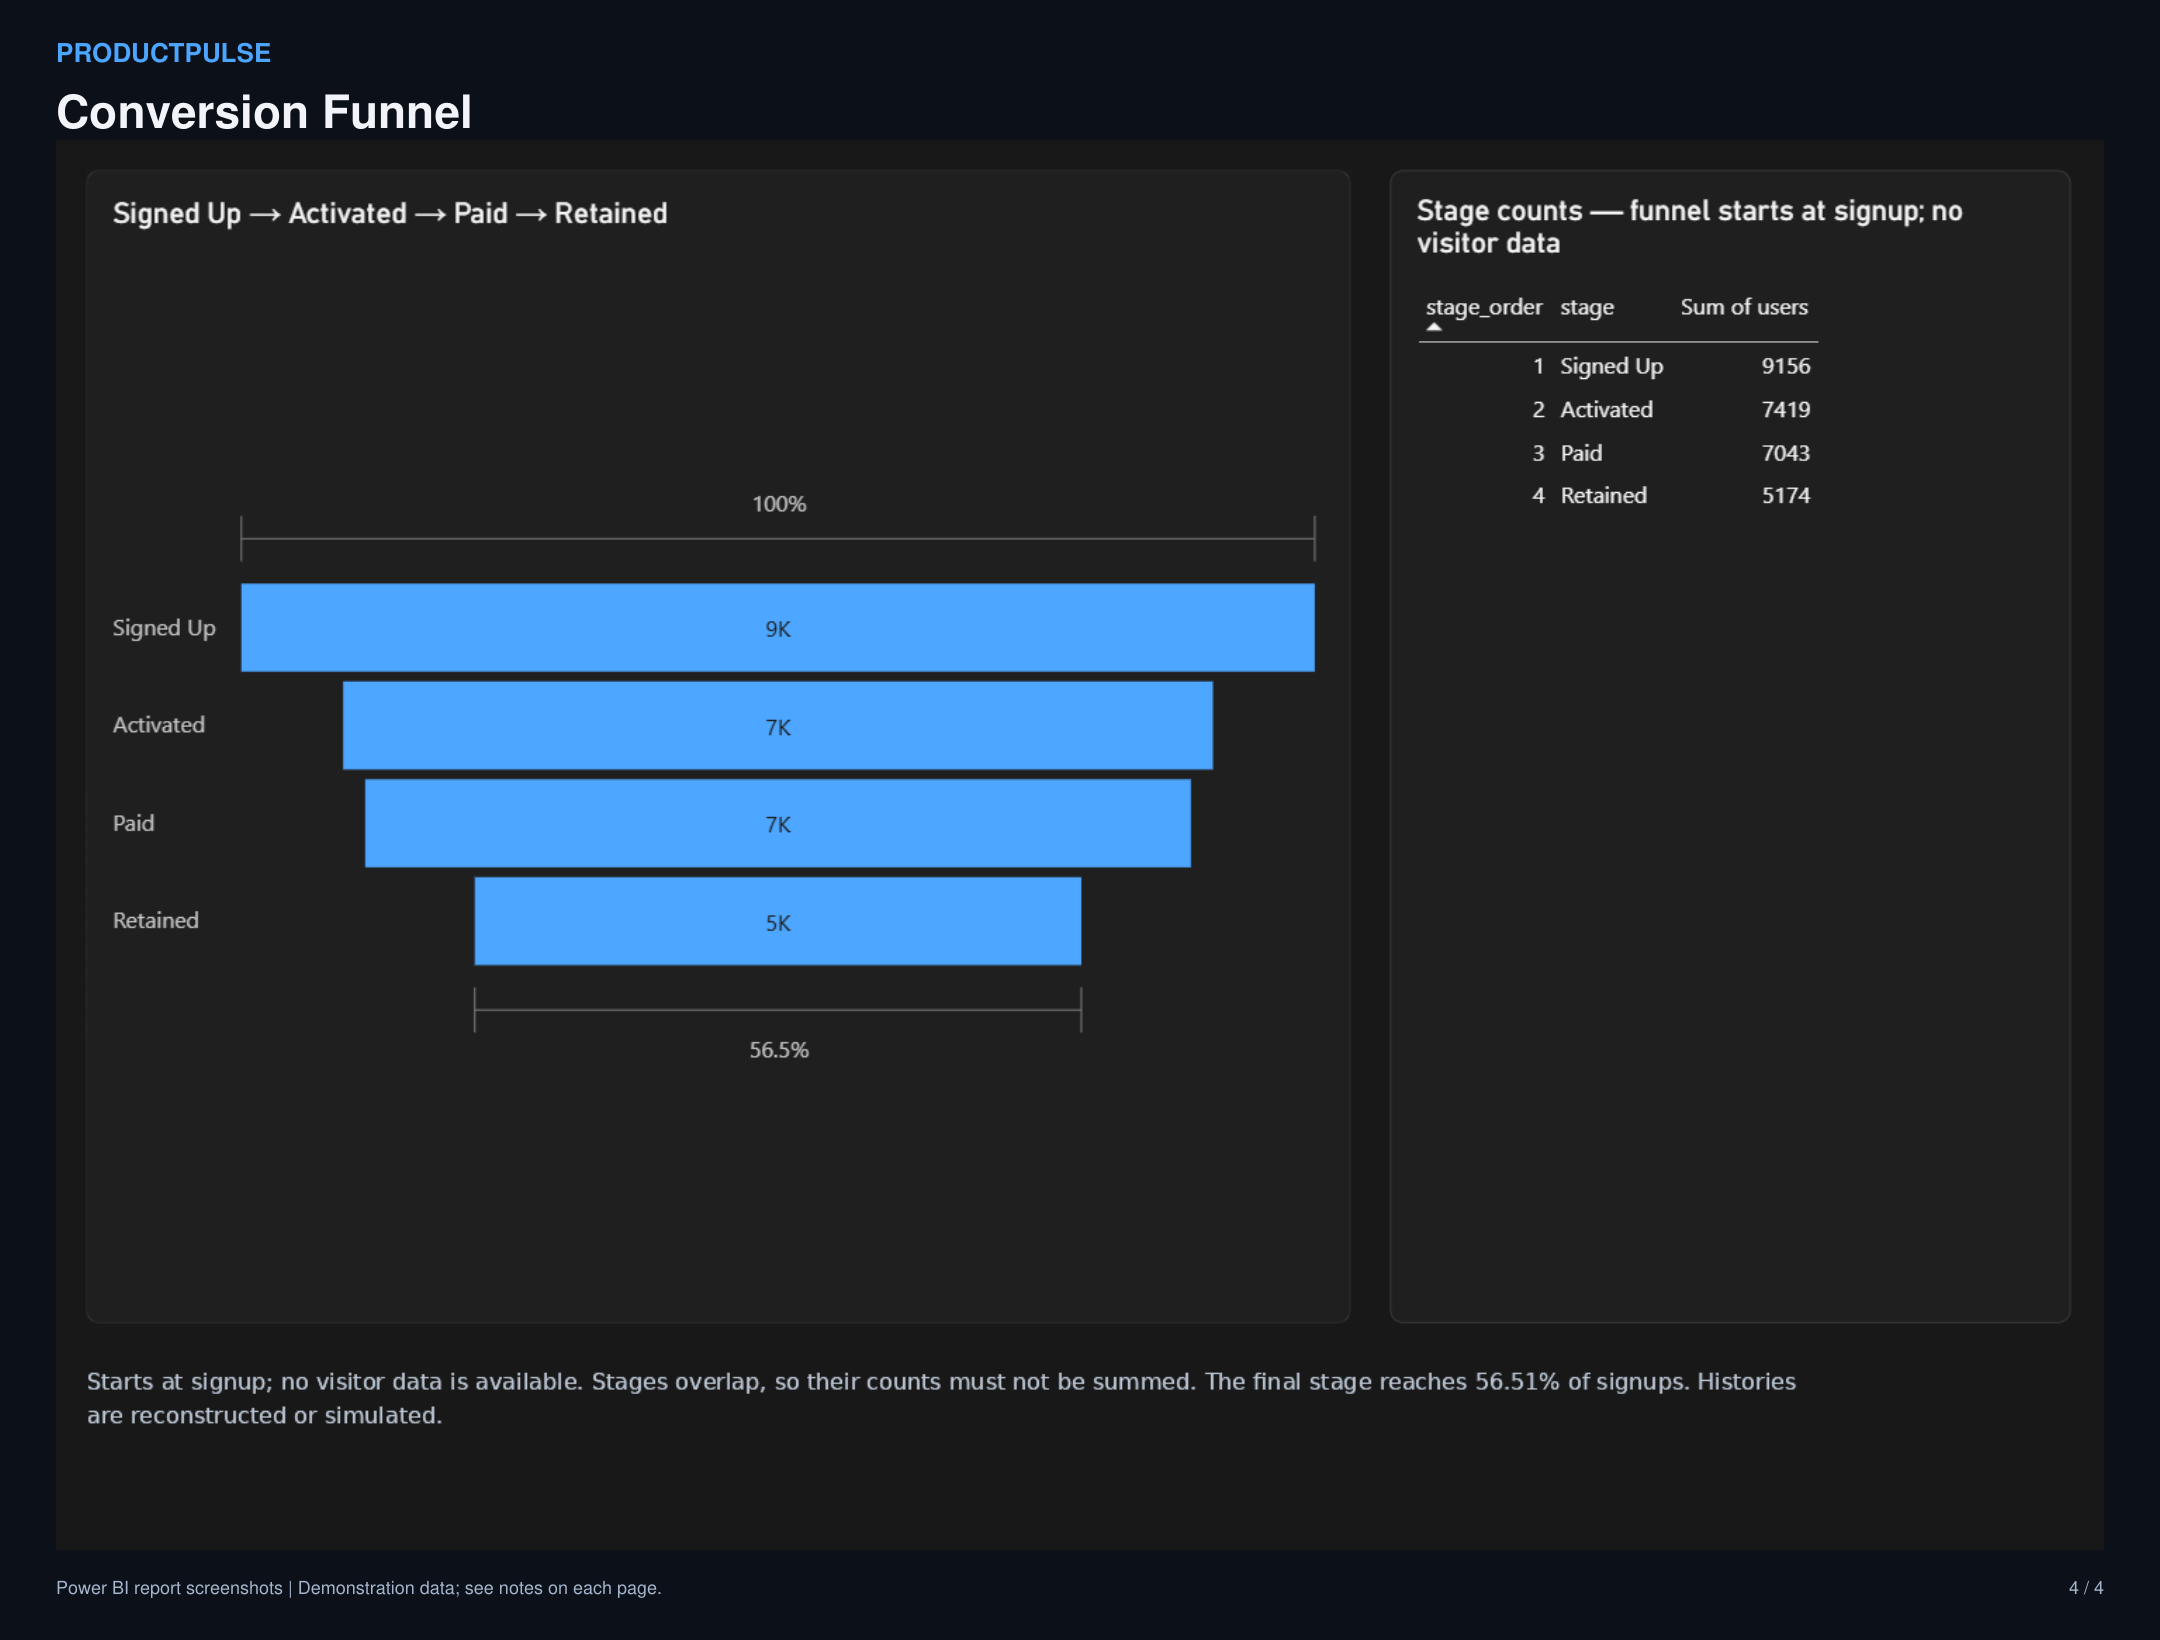

The page's visual inventory and layout, read from the dashboard file:
{"tool":"powerbi","page":{"name":"Conversion Funnel","canvas":[1280,900],"ordinal":3},"visuals":[{"type":"funnel","title":"Signed Up → Activated → Paid → Retained","fields":{"Category":["stage"],"Y":["users"]},"box":[20,20,790,720],"z":16},{"type":"tableEx","title":"Stage counts — funnel starts at signup; no visitor data","fields":{"Values":["stage_order","stage","users"]},"box":[835,20,425,720],"z":17},{"type":"textbox","box":[20,765,1240,115],"z":50}]}

Visuals, with their boxes on the page's 1280x900 design canvas (x1, y1, x2, y2). These are canvas units, not pixel positions in the 2160x1640 screenshot, which may show the page scaled, cropped or inside an application window:
"Signed Up → Activated → Paid → Retained" funnel: Rect(20, 20, 810, 740)
"Stage counts — funnel starts at signup; no visitor data" tableEx: Rect(835, 20, 1260, 740)
textbox: Rect(20, 765, 1260, 880)
